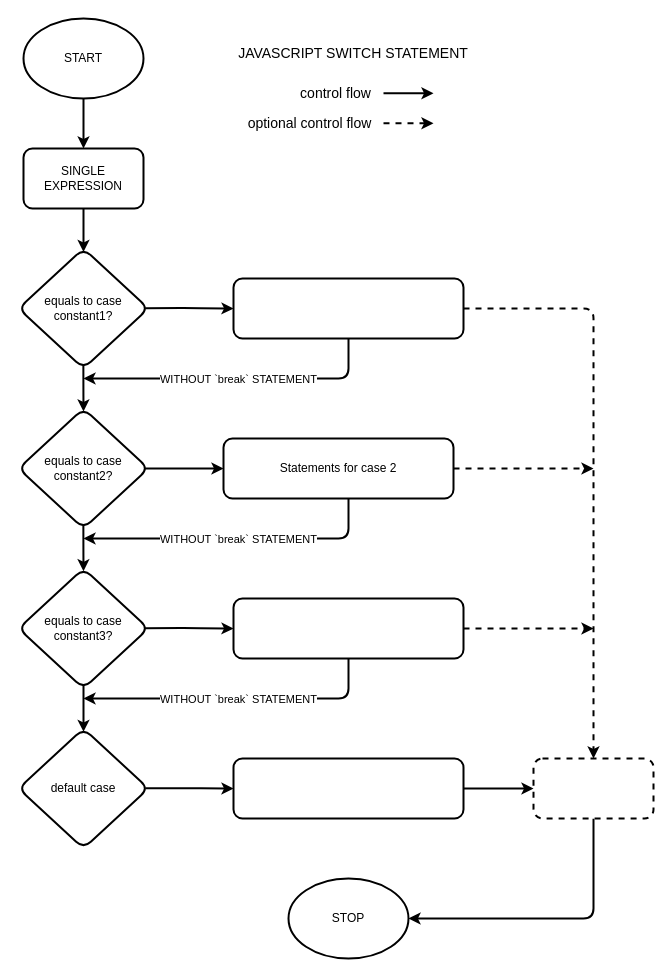
Some shapes in this 671 by 976 pixel diagram are drawn without their labels. The shapes that lost their labels are listed below. From the top down, each one's centre as x and y in pixels, then its label:
At pixel 348 308: "Statements for case 1".
At pixel 348 628: "Statements for case 3".
At pixel 348 788: "Statements for default case".
At pixel 593 788: "BREAK".
